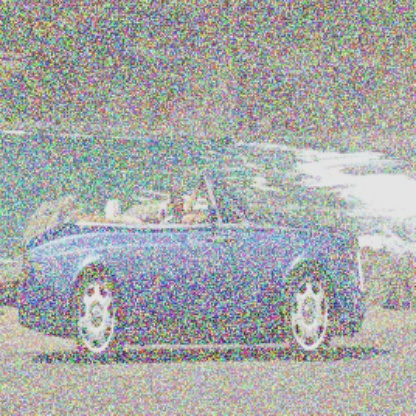Vehicle: (18, 167, 367, 366)
